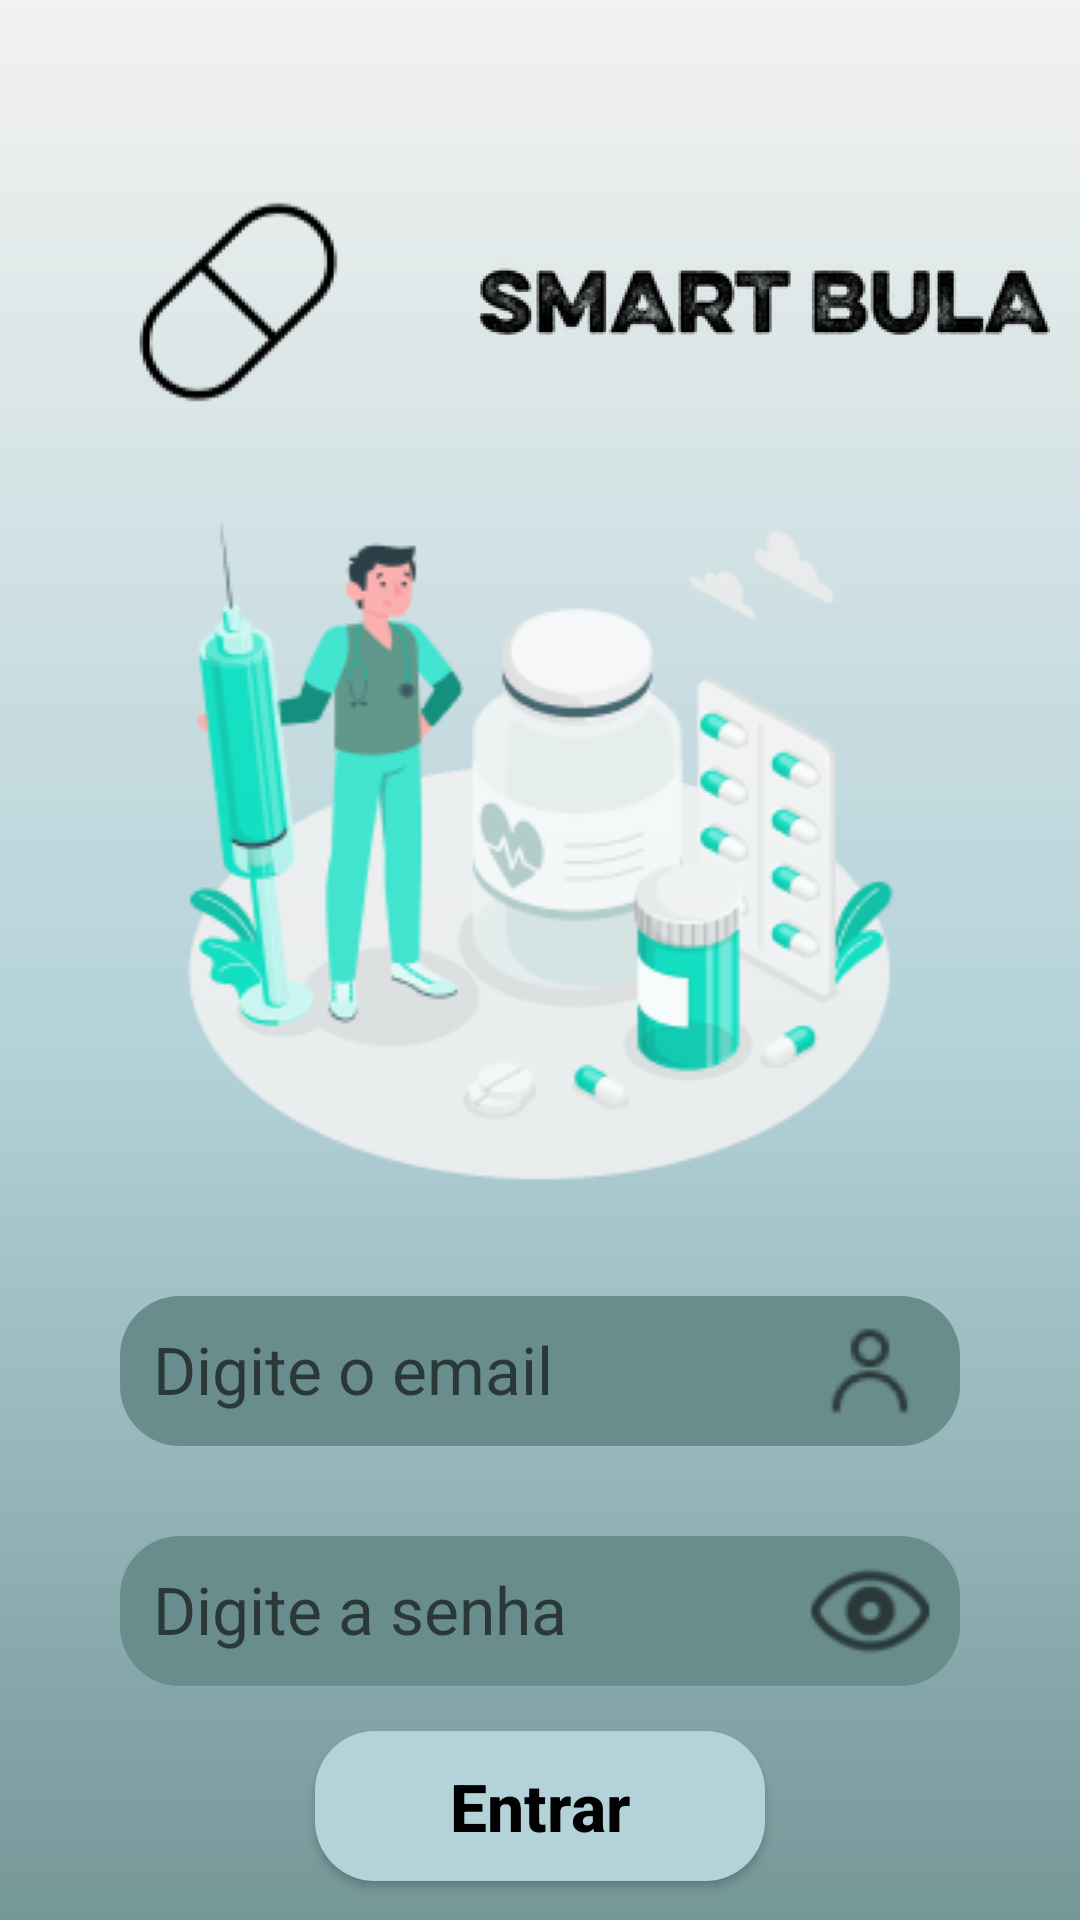

Where to tap for icons on this 1080×1920 app screen, as point (x, y):
senha login: point (870, 1611)
user login: point (870, 1371)
